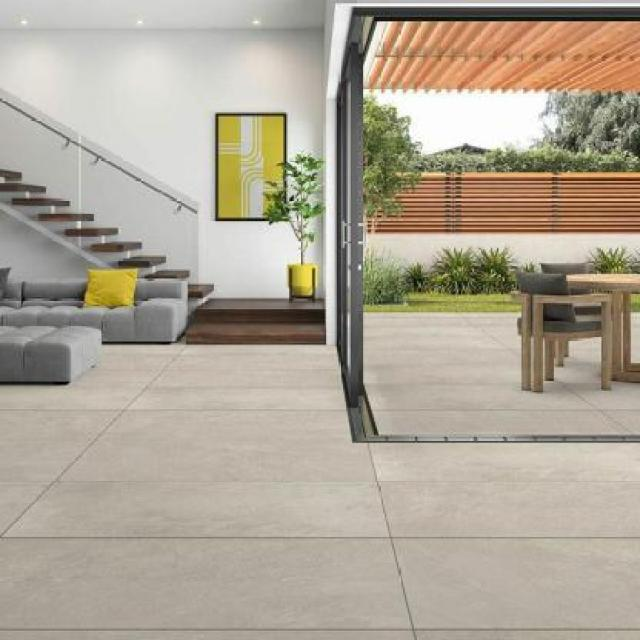Floor: (0, 335, 639, 639), (363, 312, 640, 434), (630, 312, 639, 363)
